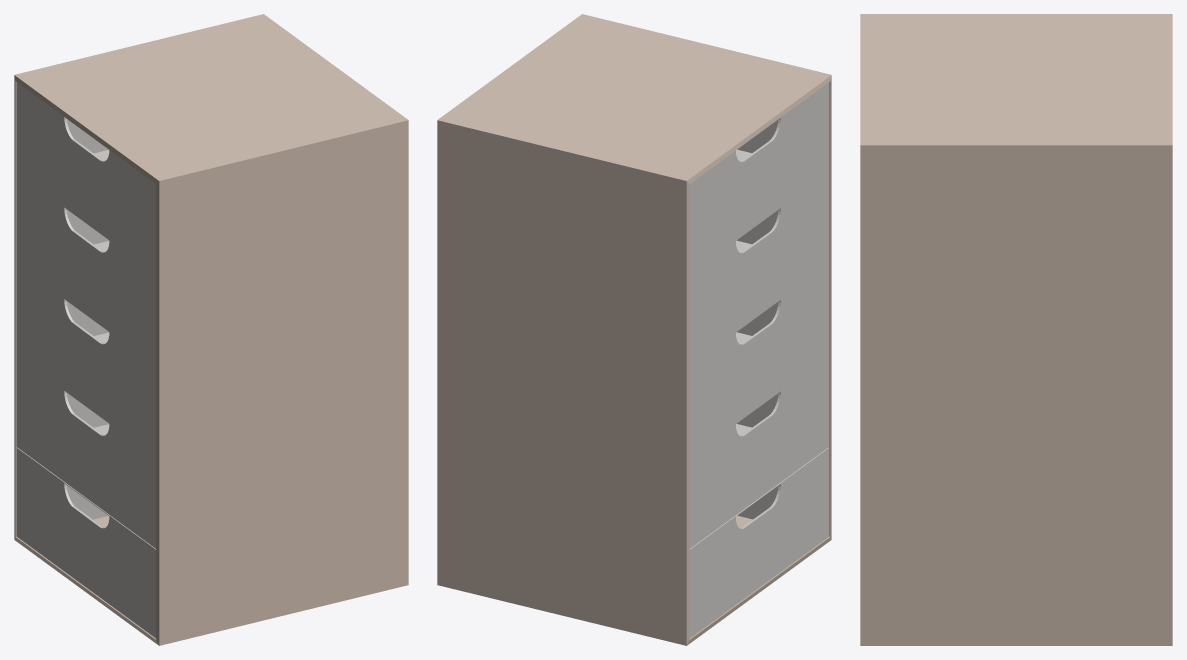
File: drawer.gltf
3 views of the same model, side by side, from view 1: azimuth 30°, elevation 25°; view 2: azimuth 150°, elevation 25°; view 3: azimuth 270°, elevation 25° (orthographic). The views are drawn at different scales.
Visible parts, largest first — view 1: Cube, Cube.004, Cube.003, Cube.002, Cube.001, Cube.005; view 2: Cube, Cube.004, Cube.003, Cube.002, Cube.001, Cube.005; view 3: Cube.
Boxes of the visible parts, x1,y1,x2,y2 form: Cube: [14, 14, 408, 645]; Cube.004: [16, 355, 156, 548]; Cube.003: [16, 264, 156, 456]; Cube.002: [16, 173, 156, 365]; Cube.001: [16, 82, 156, 273]; Cube.005: [16, 447, 156, 638]; Cube: [437, 14, 831, 645]; Cube.004: [689, 355, 829, 548]; Cube.003: [689, 264, 829, 456]; Cube.002: [689, 173, 829, 365]; Cube.001: [689, 82, 829, 273]; Cube.005: [689, 447, 829, 638]; Cube: [860, 14, 1172, 645].
Bounding box in the file's own units: 3.37 × 5.99 × 3.39.
